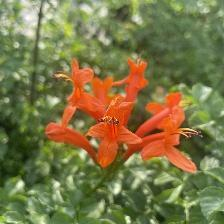honeysuckle: (89, 95, 144, 171)
